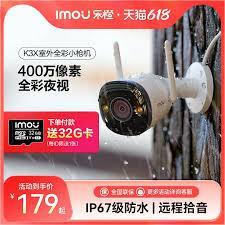tutu: (91, 67, 176, 134)
